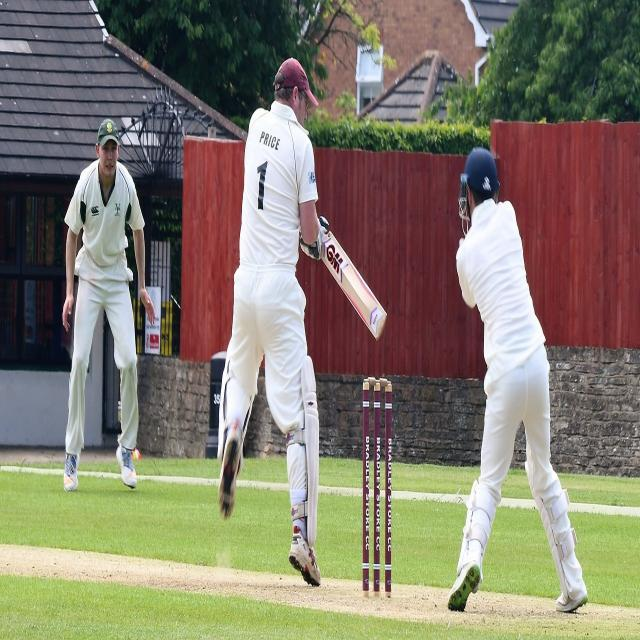stumps: (354, 370, 399, 613)
